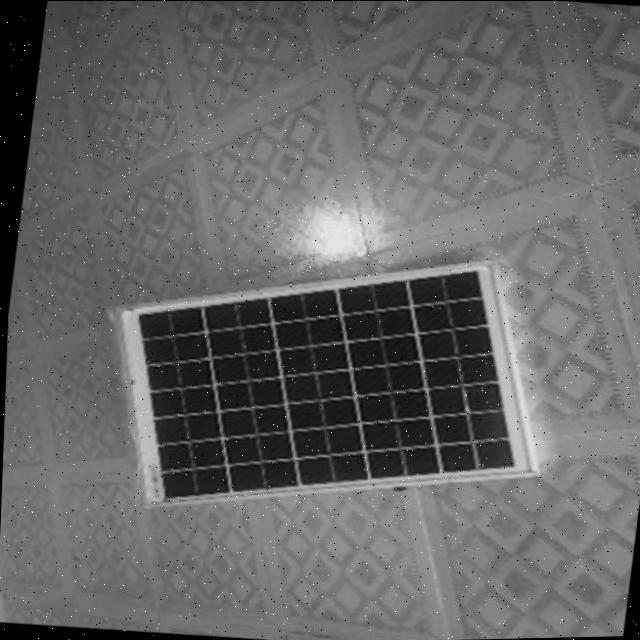Normal Solar Panel: (90, 231, 560, 542)
